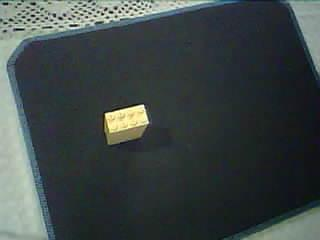lego: (101, 103, 149, 146)
